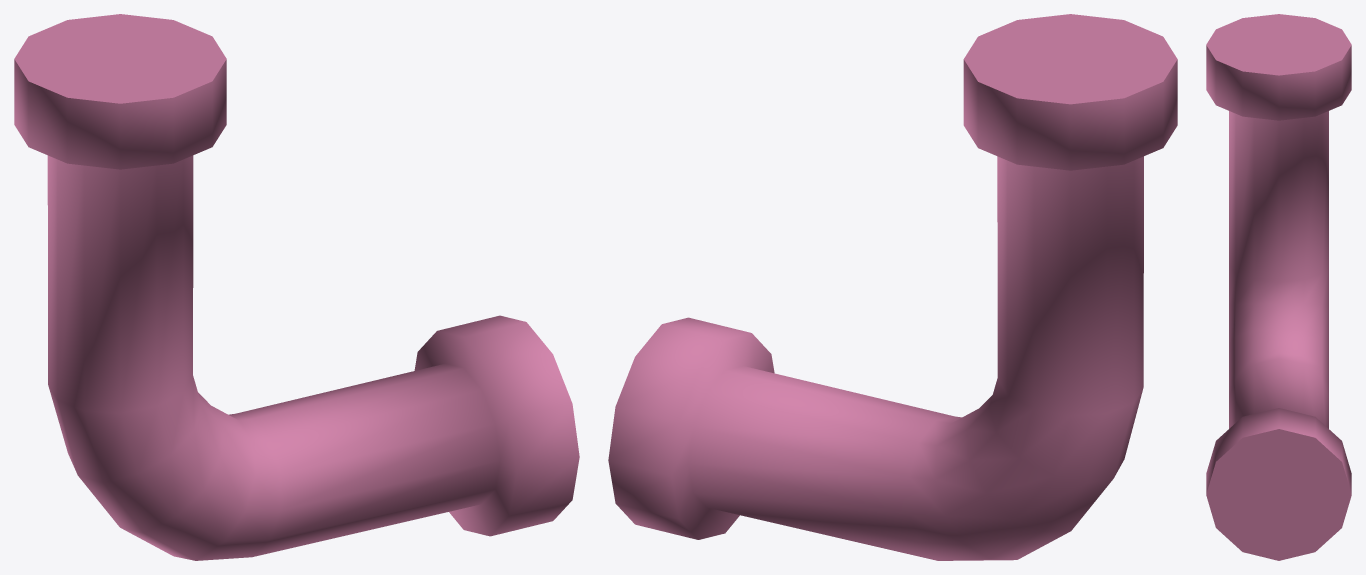
The model's file is _ipe01_low.fbx.
The picture shows the model from 3 angles, left to right: view 1: azimuth 30°, elevation 25°; view 2: azimuth 150°, elevation 25°; view 3: azimuth 270°, elevation 25°; orthographic projection. The views are drawn at different scales.
Visible parts, largest first — view 1: Pipe01_low; view 2: Pipe01_low; view 3: Pipe01_low.
Boxes of the visible parts, x1=… form: Pipe01_low: x1=14, y1=14, x2=579, y2=560; Pipe01_low: x1=608, y1=14, x2=1177, y2=560; Pipe01_low: x1=1206, y1=14, x2=1351, y2=560.
Bounding box in the file's own units: 19.42 × 20.67 × 7.17.
